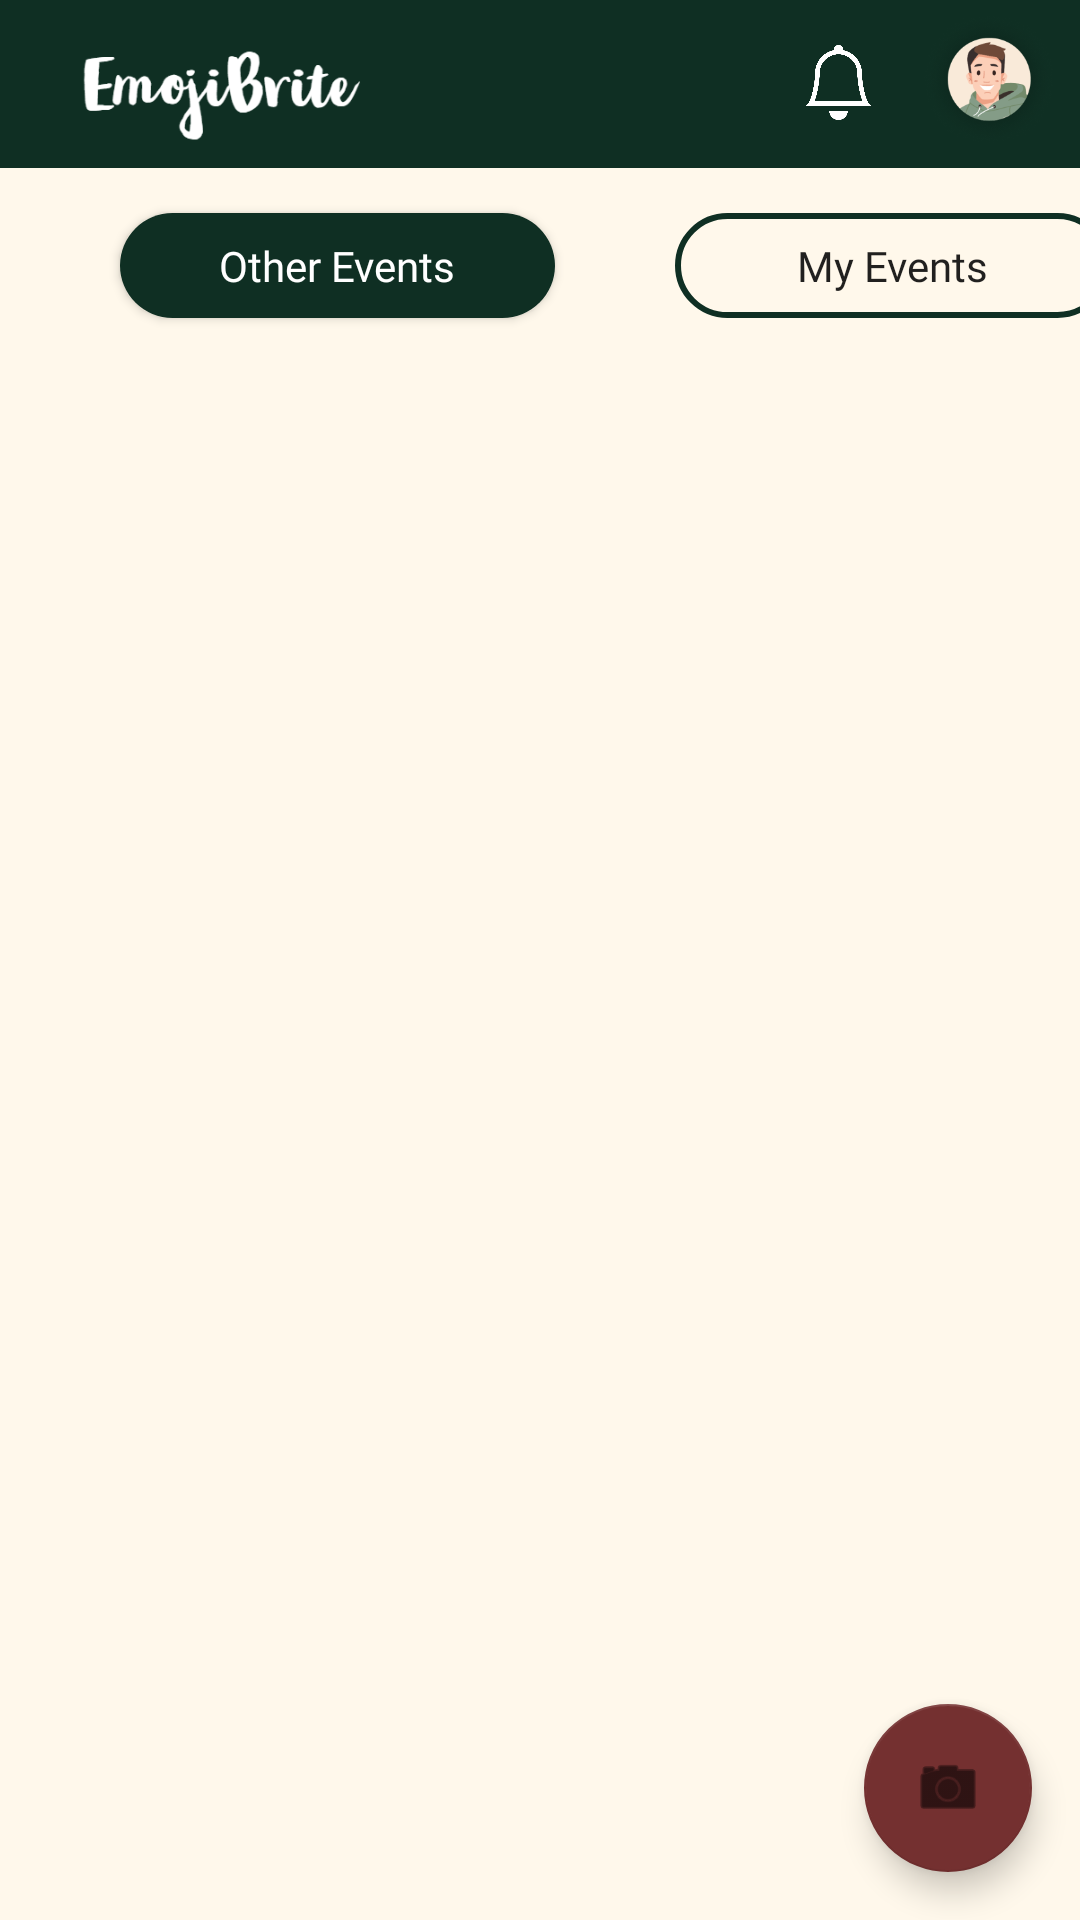

Named icons in this screenshot (1080 x 1920) and their bounding boxes, (x1, y1, x2, y2):
bi bell: (806, 45, 871, 120)
camera: (864, 1704, 1032, 1872)
profile pic: (947, 38, 1031, 121)
